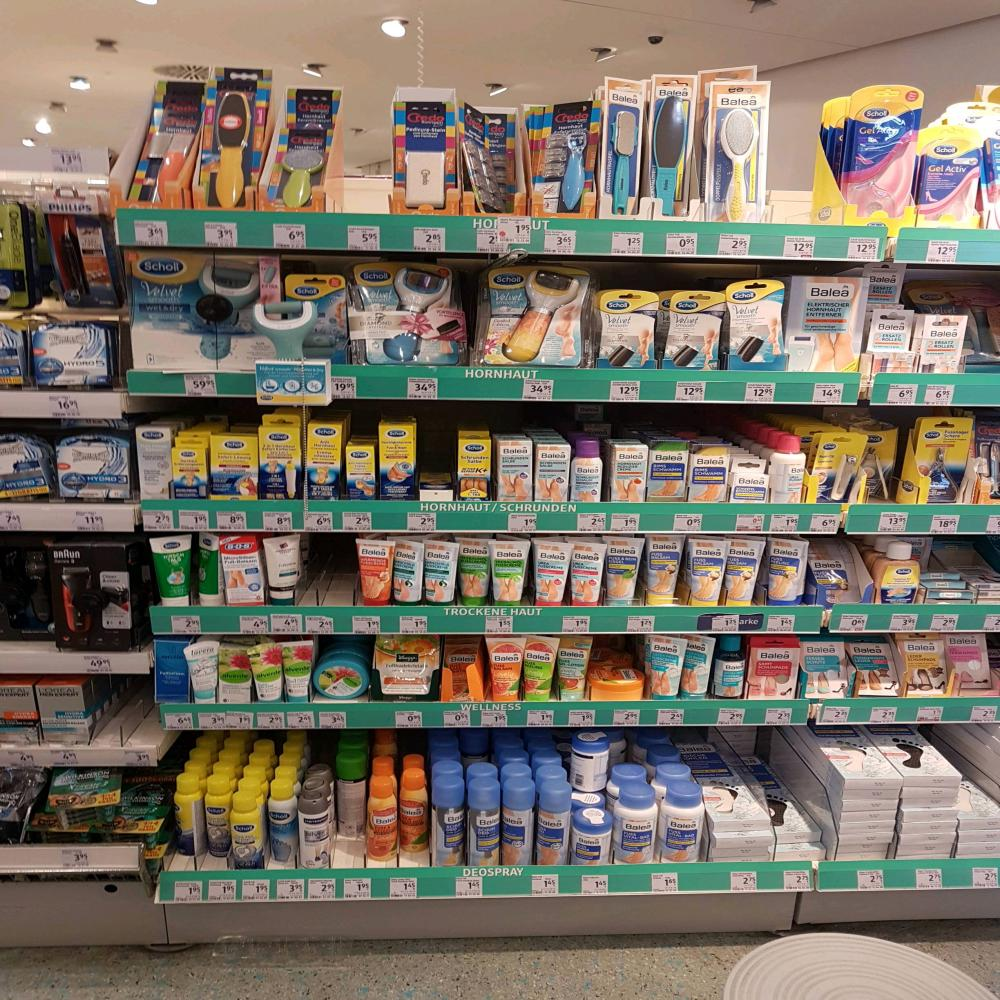shelf: (116, 204, 1000, 266), (156, 854, 1000, 906), (123, 368, 1000, 406), (139, 496, 1000, 534), (156, 695, 1000, 731), (147, 606, 1000, 636), (0, 504, 136, 532), (0, 845, 141, 871), (0, 388, 125, 417), (0, 746, 160, 767), (0, 652, 150, 672)
